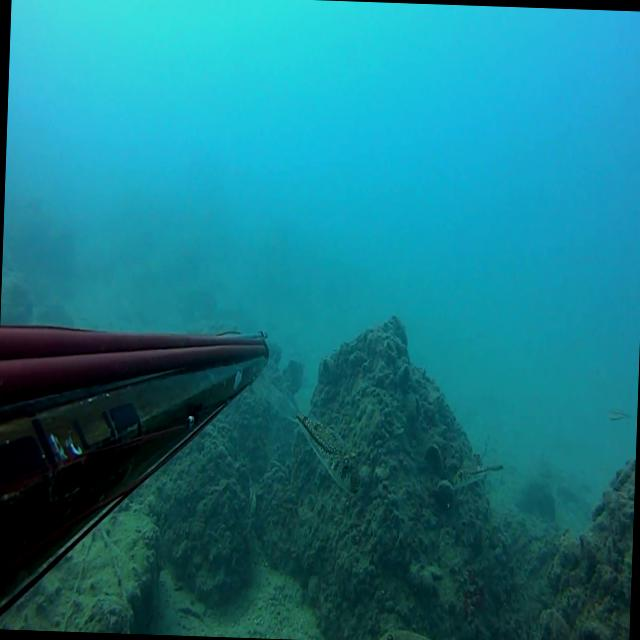Balon Baligi: (270, 382, 362, 496), (450, 460, 503, 490), (378, 625, 439, 640), (608, 407, 628, 421)
